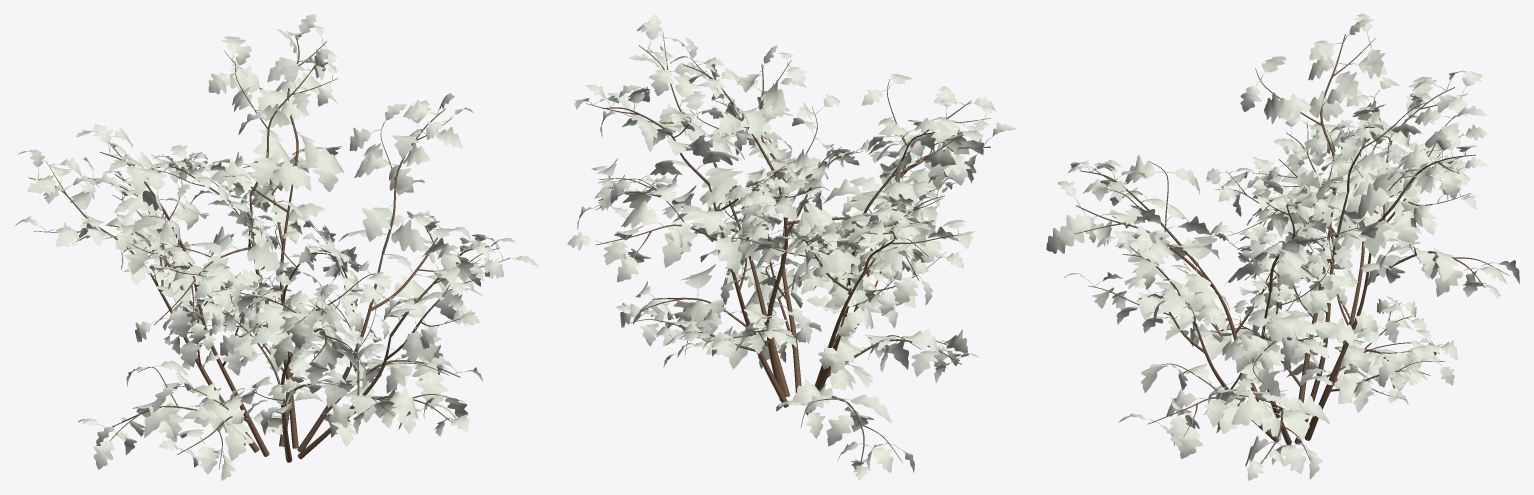
Rendered from hydrangea-branches.glb.
3 views of the same model, side by side, from view 1: azimuth 30°, elevation 25°; view 2: azimuth 150°, elevation 25°; view 3: azimuth 270°, elevation 25° (orthographic). The views are drawn at different scales.
Parts seen in each view (by area): view 1: Stem 2 branch 2 upright node 1 blade 1, Stem 0 branch 0 arching node 1 blade 0, Stem 2 branch 0 arching node 3 blade 1, Persistent stem 0, Stem 5 branch 2 upright node 0 blade 0, Persistent stem 2, Stem 5 branch 1 arching node 0 blade 1, Stem 2 branch 2 upright node 0 blade 0, Persistent stem 5; view 2: Persistent stem 5, Persistent stem 1, Stem 2 branch 2 upright node 0 blade 1, Stem 1 branch 1 arching node 0 blade 1, Persistent stem 6, Persistent stem 2, Stem 4 branch 2 upright node 0 blade 0, Stem 1 branch 1 arching node 1 blade 0, Stem 4 branch 0 arching node 2 blade 0, Stem 5 branch 2 upright node 2 blade 1, Stem 1 branch 1 arching node 2 blade 0, Stem 0 branch 0 arching node 1 blade 1 (+2 smaller); view 3: Stem 2 branch 0 arching node 2 blade 0, Persistent stem 1, Stem 2 branch 1 forked lateral 0 node 0 blade 1, Stem 3 branch 1 arching node 0 blade 1, Persistent stem 5, Stem 1 branch 2 upright node 1 blade 1, Stem 2 branch 0 arching node 1 blade 0, Stem 0 branch 2 upright lateral 0 node 0 blade 1, Stem 3 branch 1 arching node 3 blade 0, Stem 2 branch 0 arching node 3 blade 0, Stem 3 branch 1 arching lateral 1 node 0 blade 0, Stem 6 branch 0 arching lateral 1 node 0 blade 0.
Boxes of the visible parts, x1,y1,x2,y2 form: Stem 2 branch 2 upright node 1 blade 1: (362,207,392,241); Stem 0 branch 0 arching node 1 blade 0: (224,421,253,460); Stem 2 branch 0 arching node 3 blade 1: (415,371,448,409); Persistent stem 0: (190,265,269,456); Stem 5 branch 2 upright node 0 blade 0: (270,159,307,191); Persistent stem 2: (297,254,383,452); Stem 5 branch 1 arching node 0 blade 1: (247,241,280,271); Stem 2 branch 2 upright node 0 blade 0: (391,219,426,252); Persistent stem 5: (249,196,298,448); Persistent stem 5: (766,179,787,400); Persistent stem 1: (708,184,788,407); Stem 2 branch 2 upright node 0 blade 1: (702,167,743,194); Stem 1 branch 1 arching node 0 blade 1: (715,237,742,273); Persistent stem 6: (781,217,801,392); Persistent stem 2: (729,201,790,397); Stem 4 branch 2 upright node 0 blade 0: (820,246,860,273); Stem 1 branch 1 arching node 1 blade 0: (662,233,692,267); Stem 4 branch 0 arching node 2 blade 0: (826,415,853,446); Stem 5 branch 2 upright node 2 blade 1: (739,107,765,139); Stem 1 branch 1 arching node 2 blade 0: (621,200,657,228); Stem 0 branch 0 arching node 1 blade 1: (831,341,861,373); Stem 2 branch 0 arching node 2 blade 0: (1231,391,1271,425); Persistent stem 1: (1304,252,1371,440); Stem 2 branch 1 forked lateral 0 node 0 blade 1: (1267,312,1304,341); Stem 3 branch 1 arching node 0 blade 1: (1185,275,1218,321); Persistent stem 5: (1294,192,1348,444); Stem 1 branch 2 upright node 1 blade 1: (1357,183,1389,216); Stem 2 branch 0 arching node 1 blade 0: (1277,410,1310,441); Stem 0 branch 2 upright lateral 0 node 0 blade 1: (1309,90,1343,121); Stem 3 branch 1 arching node 3 blade 0: (1060,214,1090,246); Stem 2 branch 0 arching node 3 blade 0: (1280,446,1305,474); Stem 3 branch 1 arching lateral 1 node 0 blade 0: (1046,228,1074,253); Stem 6 branch 0 arching lateral 1 node 0 blade 0: (1178,427,1202,458).
Bounding box in the file's own units: 3.07 × 2.43 × 2.81.
2 materials, 1 textured.
